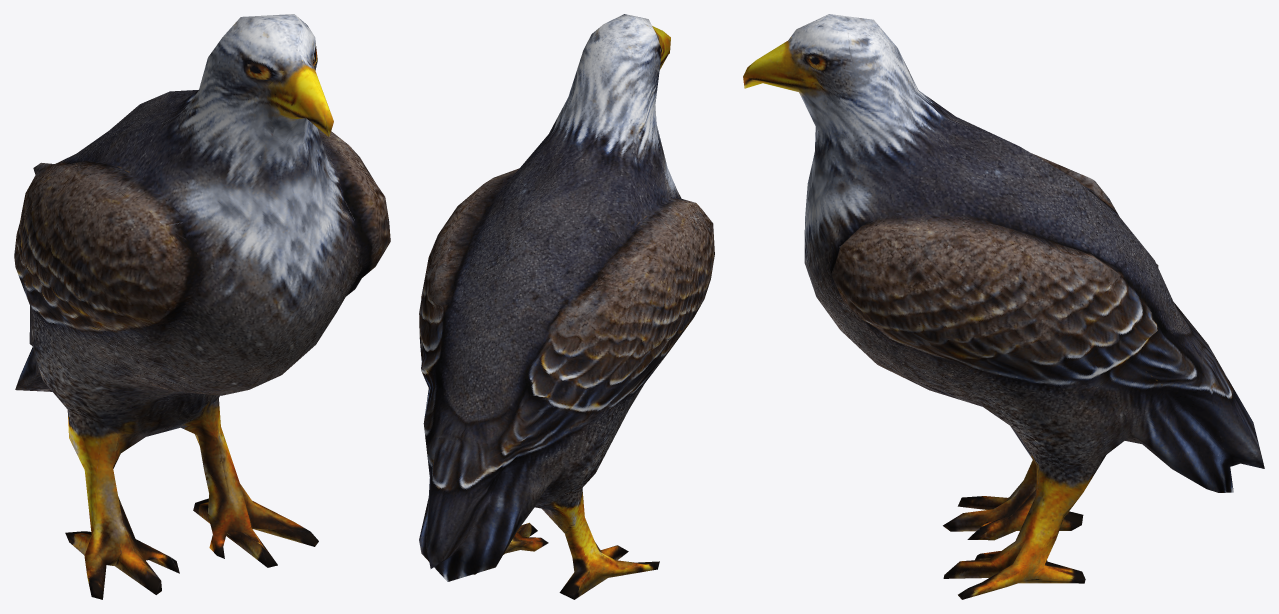
The model's file is eagle_mod.fbx.
3 views of the same model, side by side, from view 1: azimuth 30°, elevation 25°; view 2: azimuth 150°, elevation 25°; view 3: azimuth 270°, elevation 25° (orthographic). The views are drawn at different scales.
Parts seen in each view (by area): view 1: Eagle_Low_Poly; view 2: Eagle_Low_Poly; view 3: Eagle_Low_Poly.
Boxes of the visible parts, left/top/right/bottom form: Eagle_Low_Poly: left=14, top=14, right=390, bottom=599; Eagle_Low_Poly: left=419, top=14, right=714, bottom=599; Eagle_Low_Poly: left=743, top=14, right=1264, bottom=599.
Bounding box in the file's own units: 39.3 × 77.18 × 68.01.
